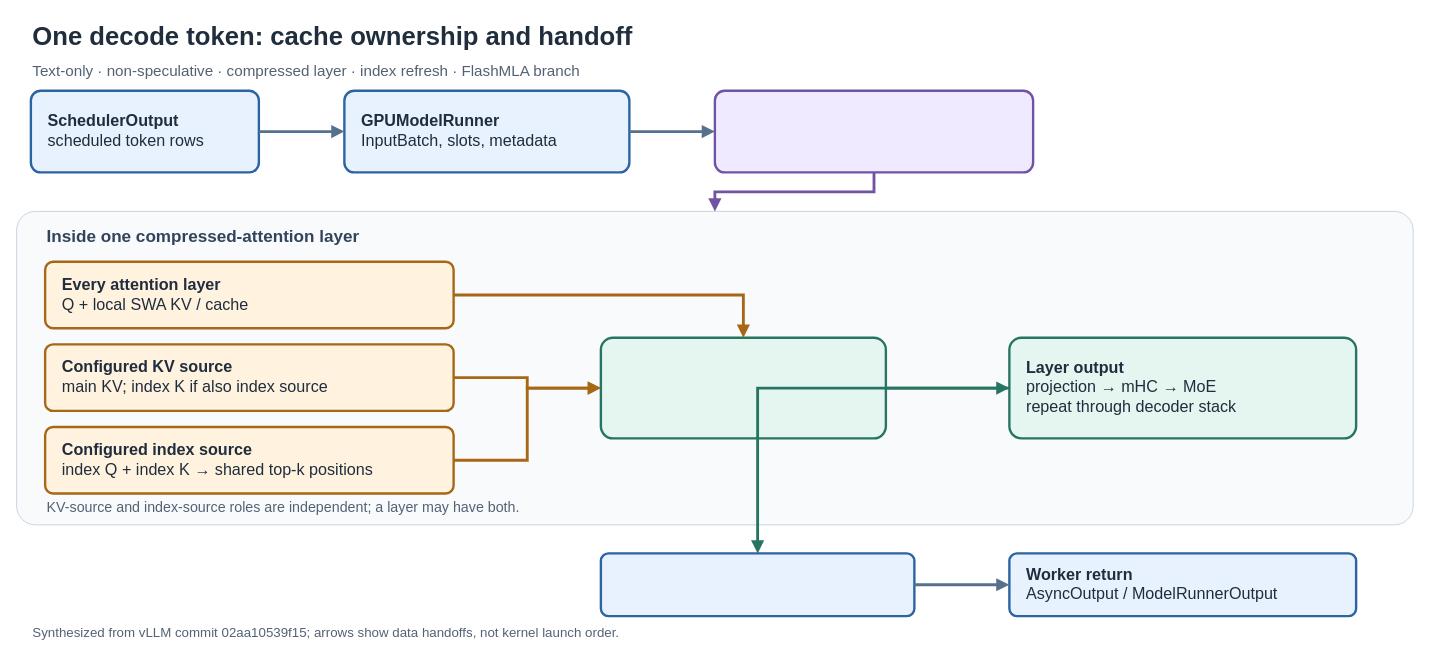
Some shapes in this 1430 by 656 pixel diagram are drawn without their labels. The centre of each missing label's shape, as x and y in pixels:
"FlashMLA sparse decode Q + local SWA + selected compressed main KV" goes at pixel 743 387.
"Logits + GPU sampler sampled token ID" goes at pixel 757 584.
"V4.1 decoder layer attention input + position" goes at pixel 873 131.
